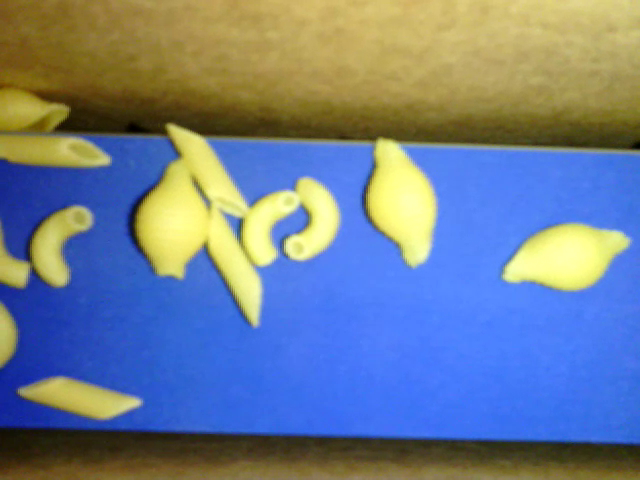elbow: (32, 204, 94, 289), (287, 175, 343, 263), (240, 190, 299, 267), (1, 205, 32, 289)
penne: (164, 123, 251, 220), (201, 205, 261, 330), (17, 373, 138, 426), (1, 132, 116, 170)
shell: (492, 223, 637, 292), (364, 134, 437, 271), (133, 156, 210, 282), (1, 87, 72, 136)
